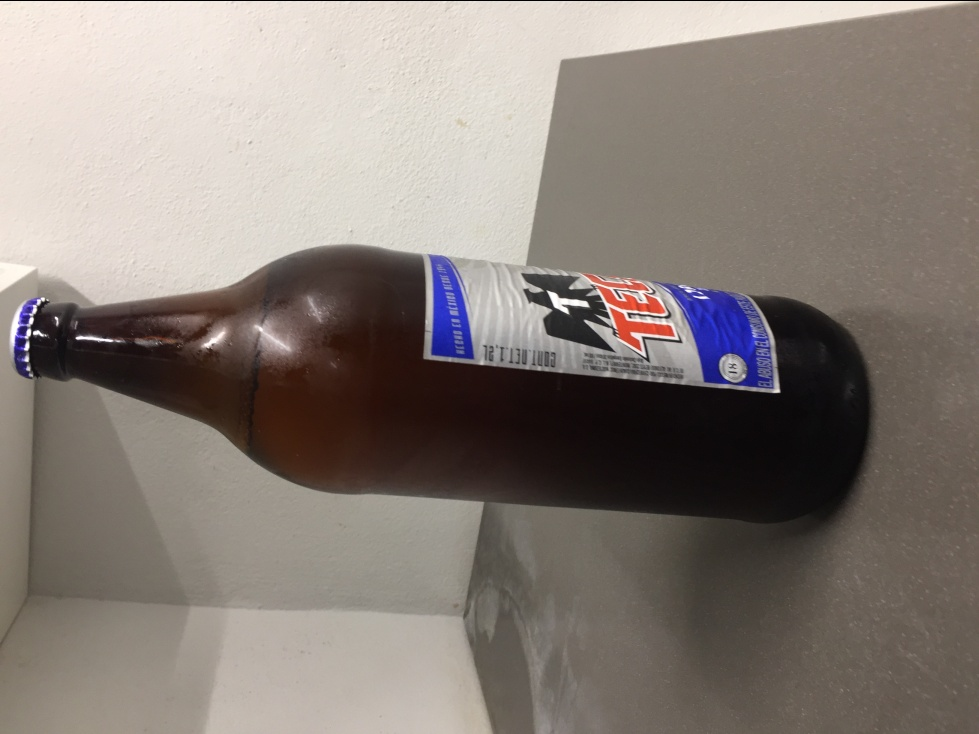tecateC: (16, 244, 873, 530)
